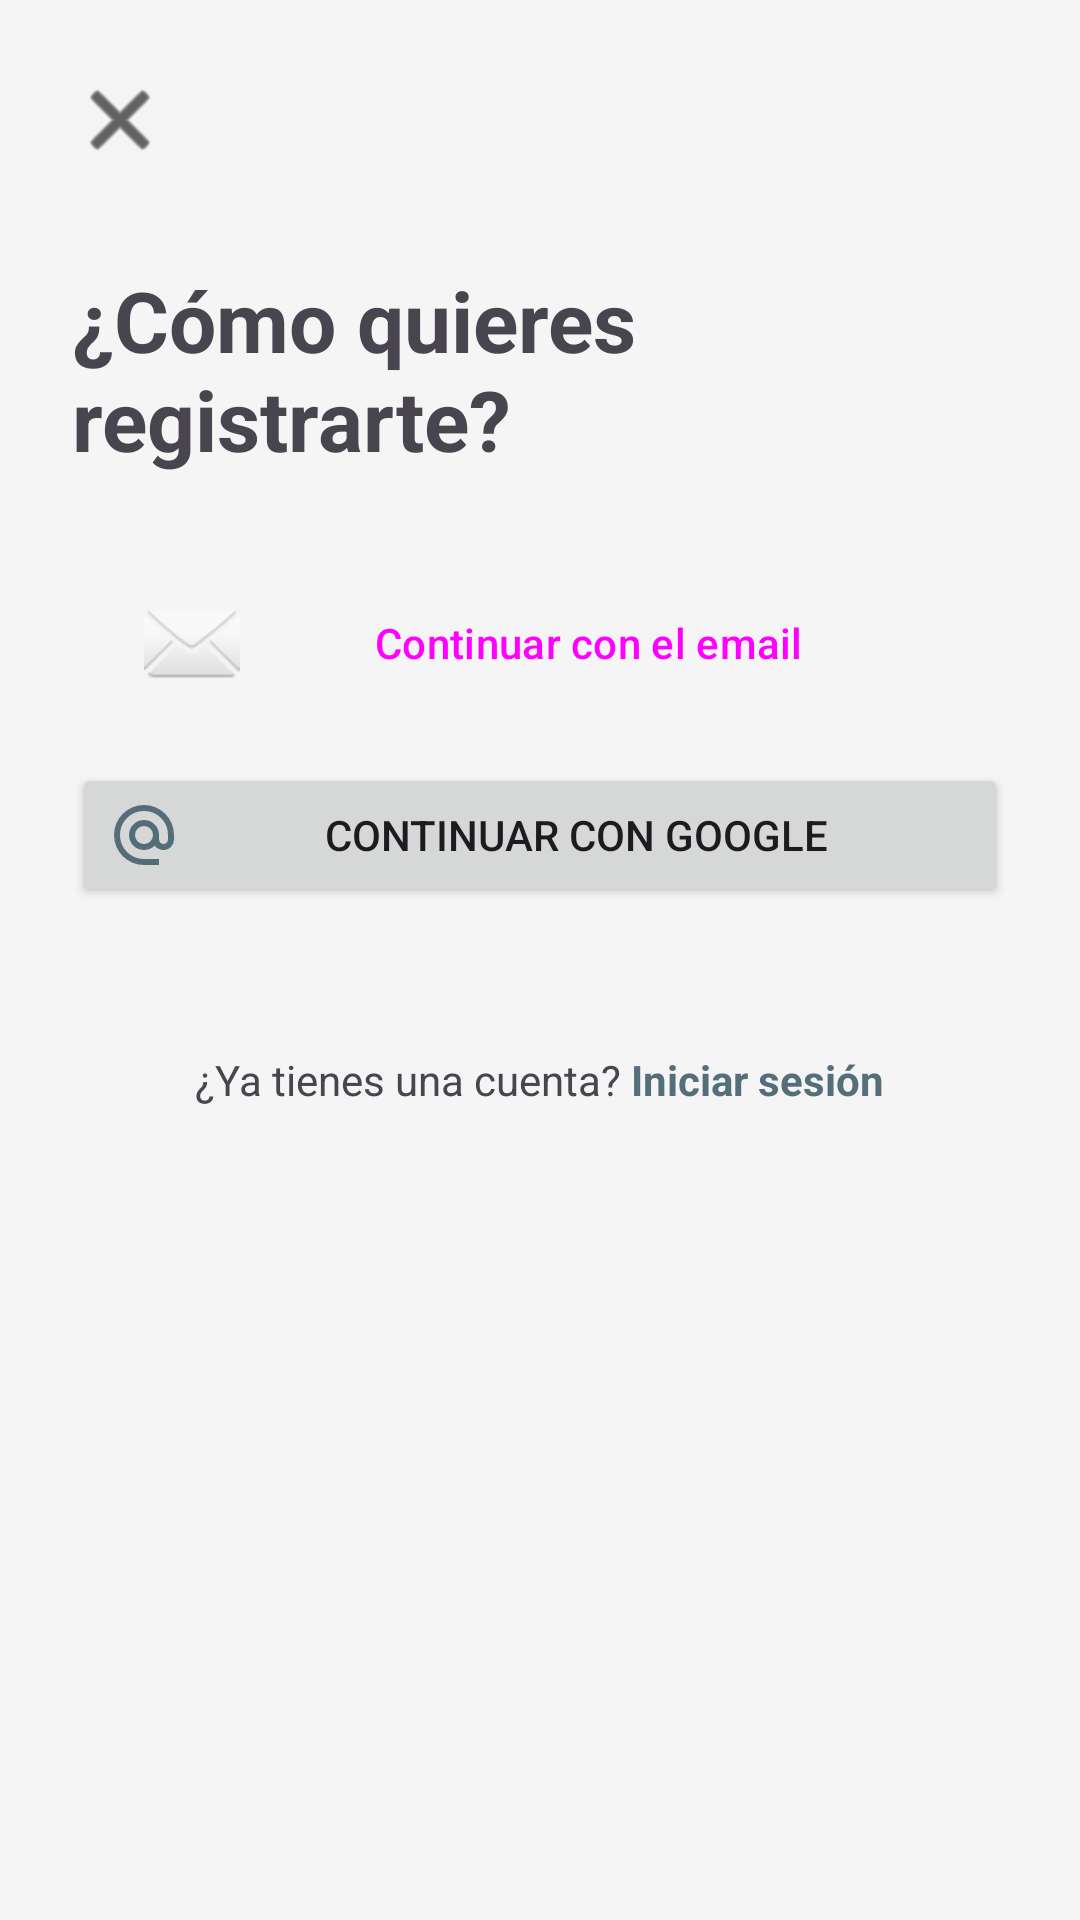

Icons on this 1080px x 1920px Android screen, each with its box as (x1, y1, x2, y2):
Cerrar: (90, 90, 150, 150)
